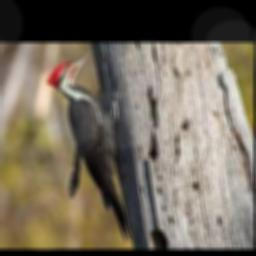Woodpecker: (46, 50, 132, 241)
